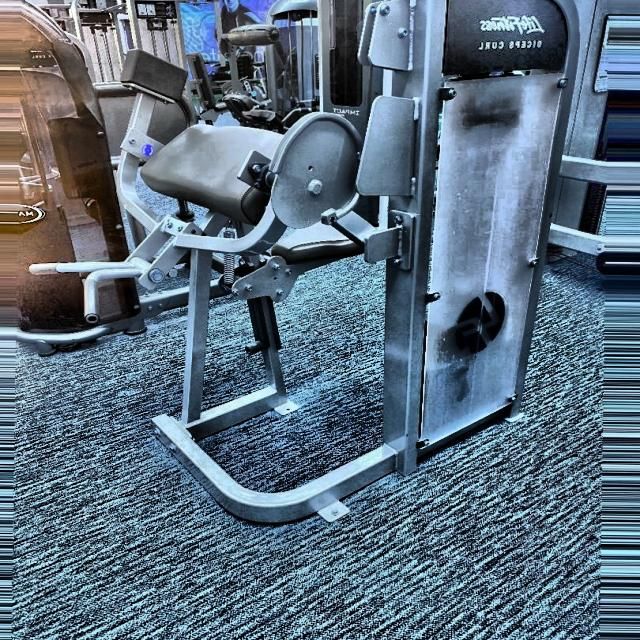bicep_curl_machine: (14, 1, 386, 534), (467, 38, 549, 56)
